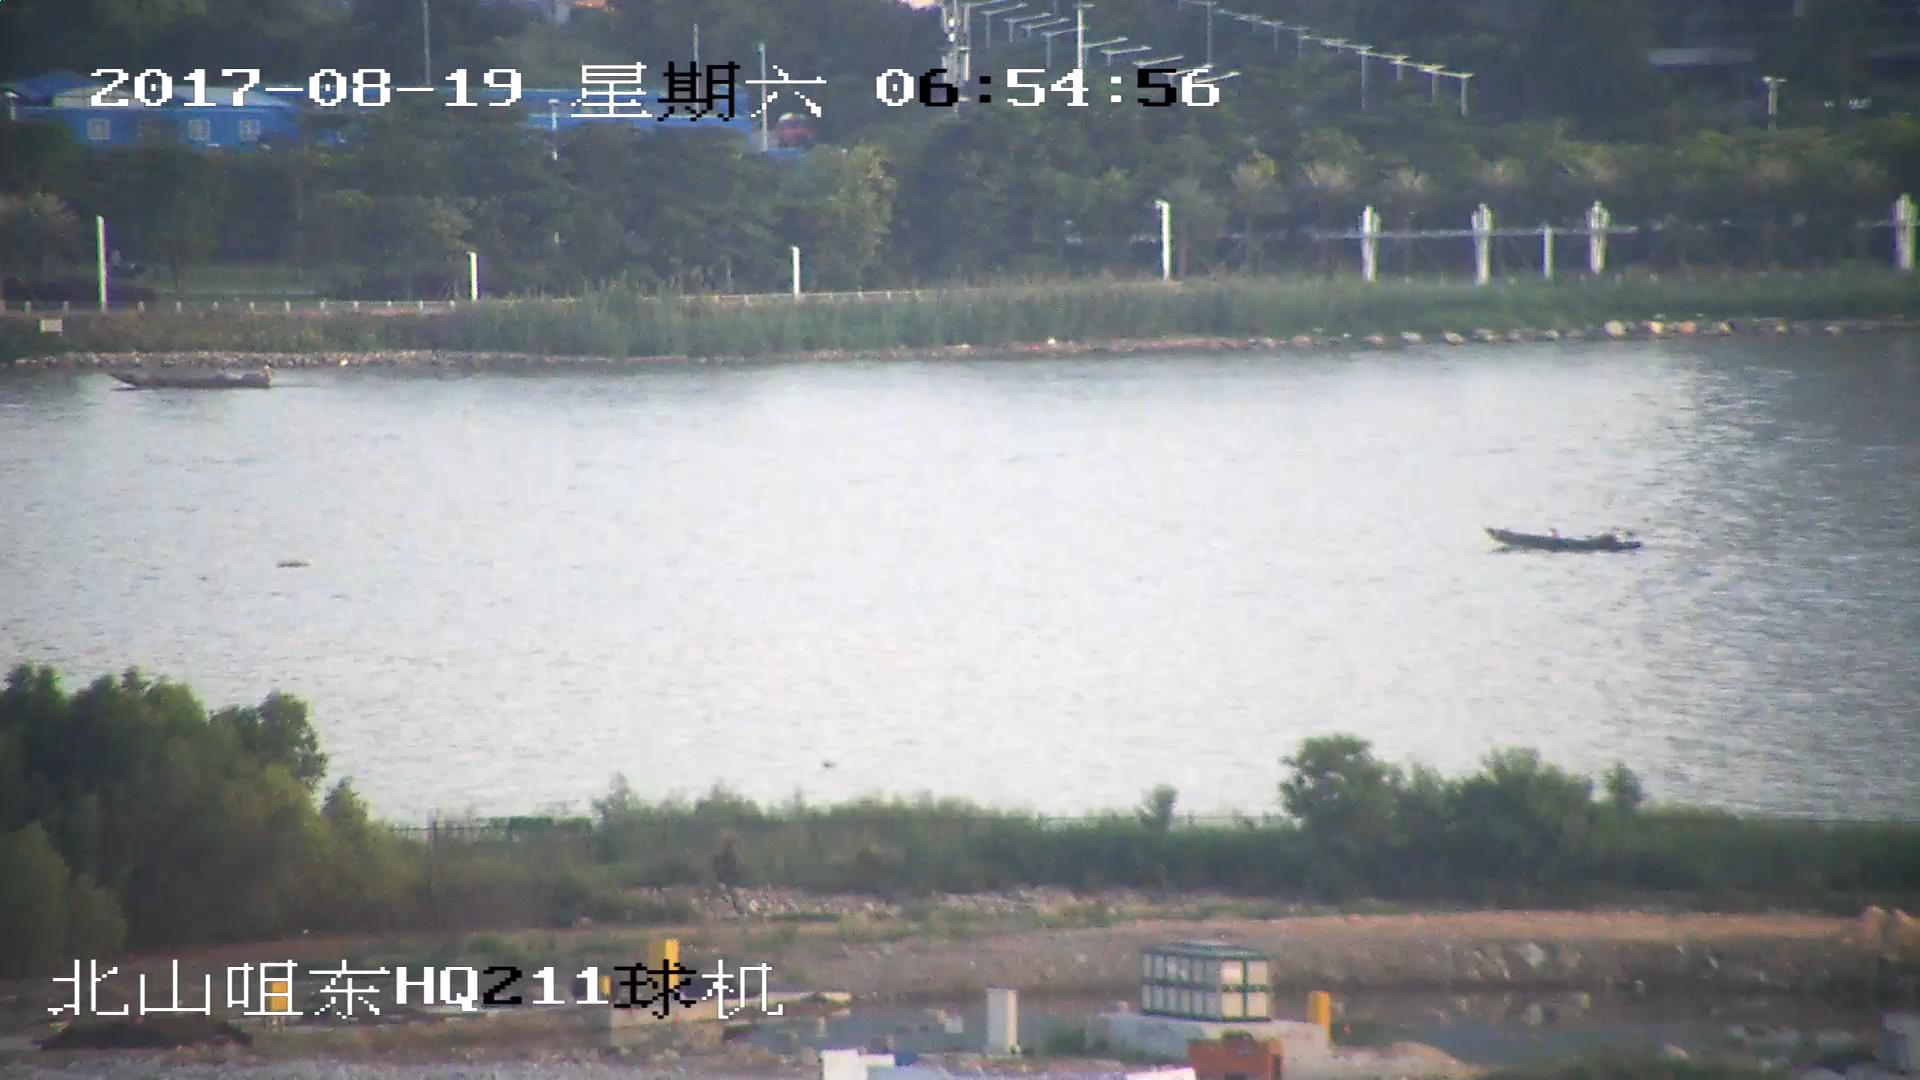fishing boat: (1482, 526, 1637, 555), (114, 365, 272, 390)
